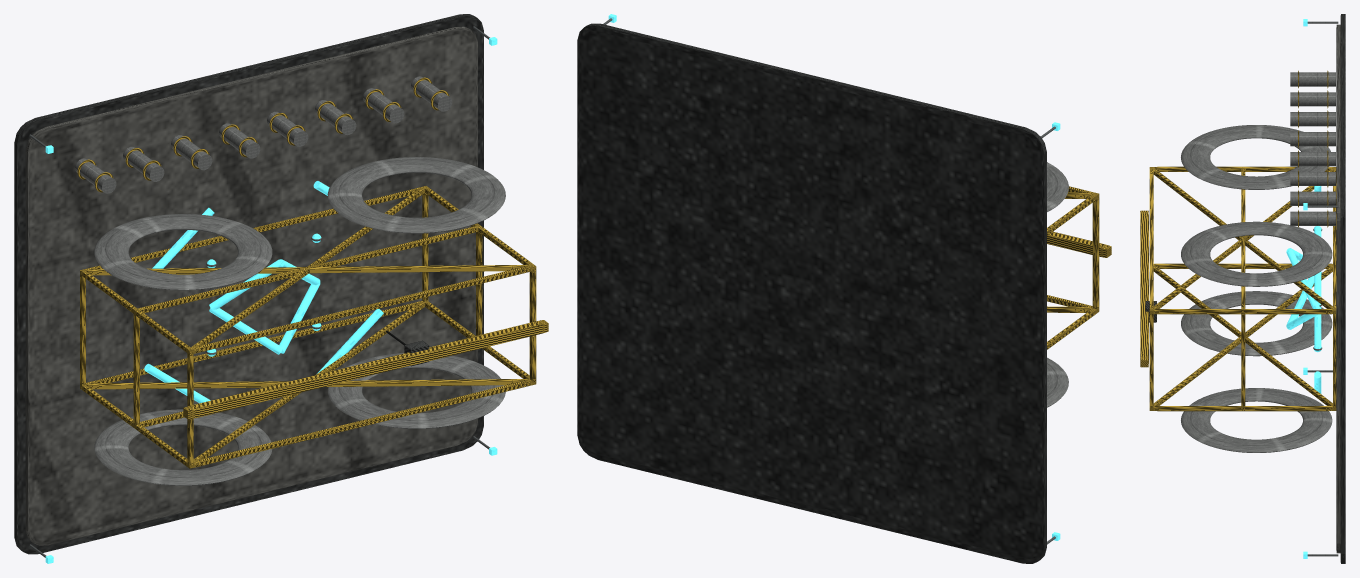
Rendered from b-28-quantum-lab-lod0.glb.
The picture shows the model from 3 angles, left to right: view 1: azimuth 30°, elevation 25°; view 2: azimuth 150°, elevation 25°; view 3: azimuth 270°, elevation 25°; orthographic projection. The views are drawn at different scales.
Visible parts, largest first — view 1: foundation_inner_pad, foundation, primary_quantum_ring_3, primary_quantum_ring_2, primary_quantum_ring_0, quantum_service_crane_bridge, primary_quantum_ring_1, quantum_service_crane_brace_a_-2.1, quantum_service_crane_beam_x_2_n, quantum_service_crane_beam_x_2_s, quantum_service_crane_beam_x_1_n, quantum_service_crane_brace_a_2.1 (+21 smaller); view 2: foundation, quantum_service_crane_beam_y_2_w, quantum_service_crane_bridge, primary_quantum_ring_0, primary_quantum_ring_2; view 3: primary_quantum_ring_3, primary_quantum_ring_1, primary_quantum_ring_2, primary_quantum_ring_0, foundation, foundation_inner_pad, quantum_service_crane_bridge, quantum_service_crane_brace_b_-2.1, quantum_service_crane_brace_a_-2.1, quantum_service_crane_brace_b_2.1, quantum_service_crane_column_e_n, quantum_service_crane_column_e_s (+18 smaller).
Boxes of the visible parts, left/top/right/bottom form: foundation_inner_pad: left=25, top=26, right=477, bottom=545; foundation: left=14, top=14, right=483, bottom=554; primary_quantum_ring_3: left=327, top=157, right=505, bottom=233; primary_quantum_ring_2: left=94, top=214, right=272, bottom=290; primary_quantum_ring_0: left=94, top=409, right=272, bottom=485; quantum_service_crane_bridge: left=183, top=320, right=548, bottom=419; primary_quantum_ring_1: left=327, top=353, right=505, bottom=428; quantum_service_crane_brace_a_-2.1: left=86, top=379, right=529, bottom=389; quantum_service_crane_beam_x_2_n: left=187, top=265, right=536, bottom=354; quantum_service_crane_beam_x_2_s: left=187, top=379, right=536, bottom=468; quantum_service_crane_beam_x_1_n: left=133, top=226, right=478, bottom=314; quantum_service_crane_brace_a_2.1: left=86, top=265, right=529, bottom=275; foundation: left=577, top=23, right=1046, bottom=563; quantum_service_crane_beam_y_2_w: left=1092, top=192, right=1099, bottom=309; quantum_service_crane_bridge: left=1047, top=231, right=1111, bottom=257; primary_quantum_ring_0: left=1047, top=357, right=1068, bottom=407; primary_quantum_ring_2: left=1047, top=162, right=1068, bottom=211; primary_quantum_ring_3: left=1181, top=221, right=1332, bottom=286; primary_quantum_ring_1: left=1181, top=388, right=1332, bottom=452; primary_quantum_ring_2: left=1181, top=125, right=1330, bottom=189; primary_quantum_ring_0: left=1181, top=291, right=1332, bottom=356; foundation: left=1340, top=14, right=1345, bottom=563; foundation_inner_pad: left=1336, top=24, right=1340, bottom=553; quantum_service_crane_bridge: left=1140, top=210, right=1148, bottom=367; quantum_service_crane_brace_b_-2.1: left=1153, top=265, right=1332, bottom=405; quantum_service_crane_brace_a_-2.1: left=1153, top=265, right=1332, bottom=405; quantum_service_crane_brace_b_2.1: left=1153, top=168, right=1332, bottom=308; quantum_service_crane_column_e_n: left=1153, top=309, right=1333, bottom=314; quantum_service_crane_column_e_s: left=1153, top=406, right=1333, bottom=411.
Size of what is drawn, in the model's own units: 18 by 16 by 8.07.
8 materials, 8 textured.
